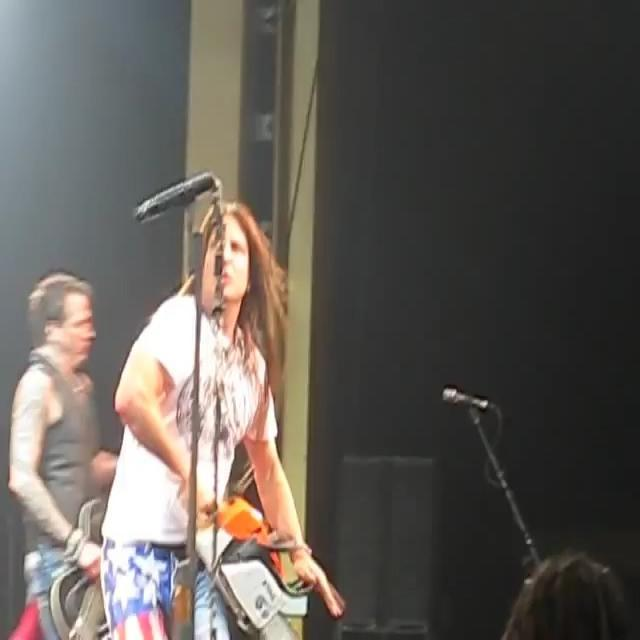Chainsaw: (180, 488, 318, 640)
